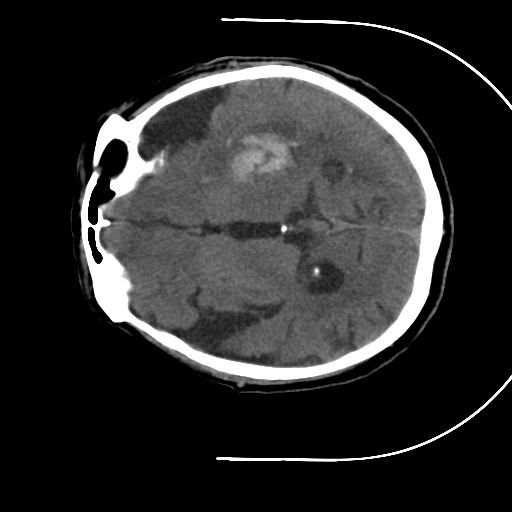a: (202, 108, 319, 198)
